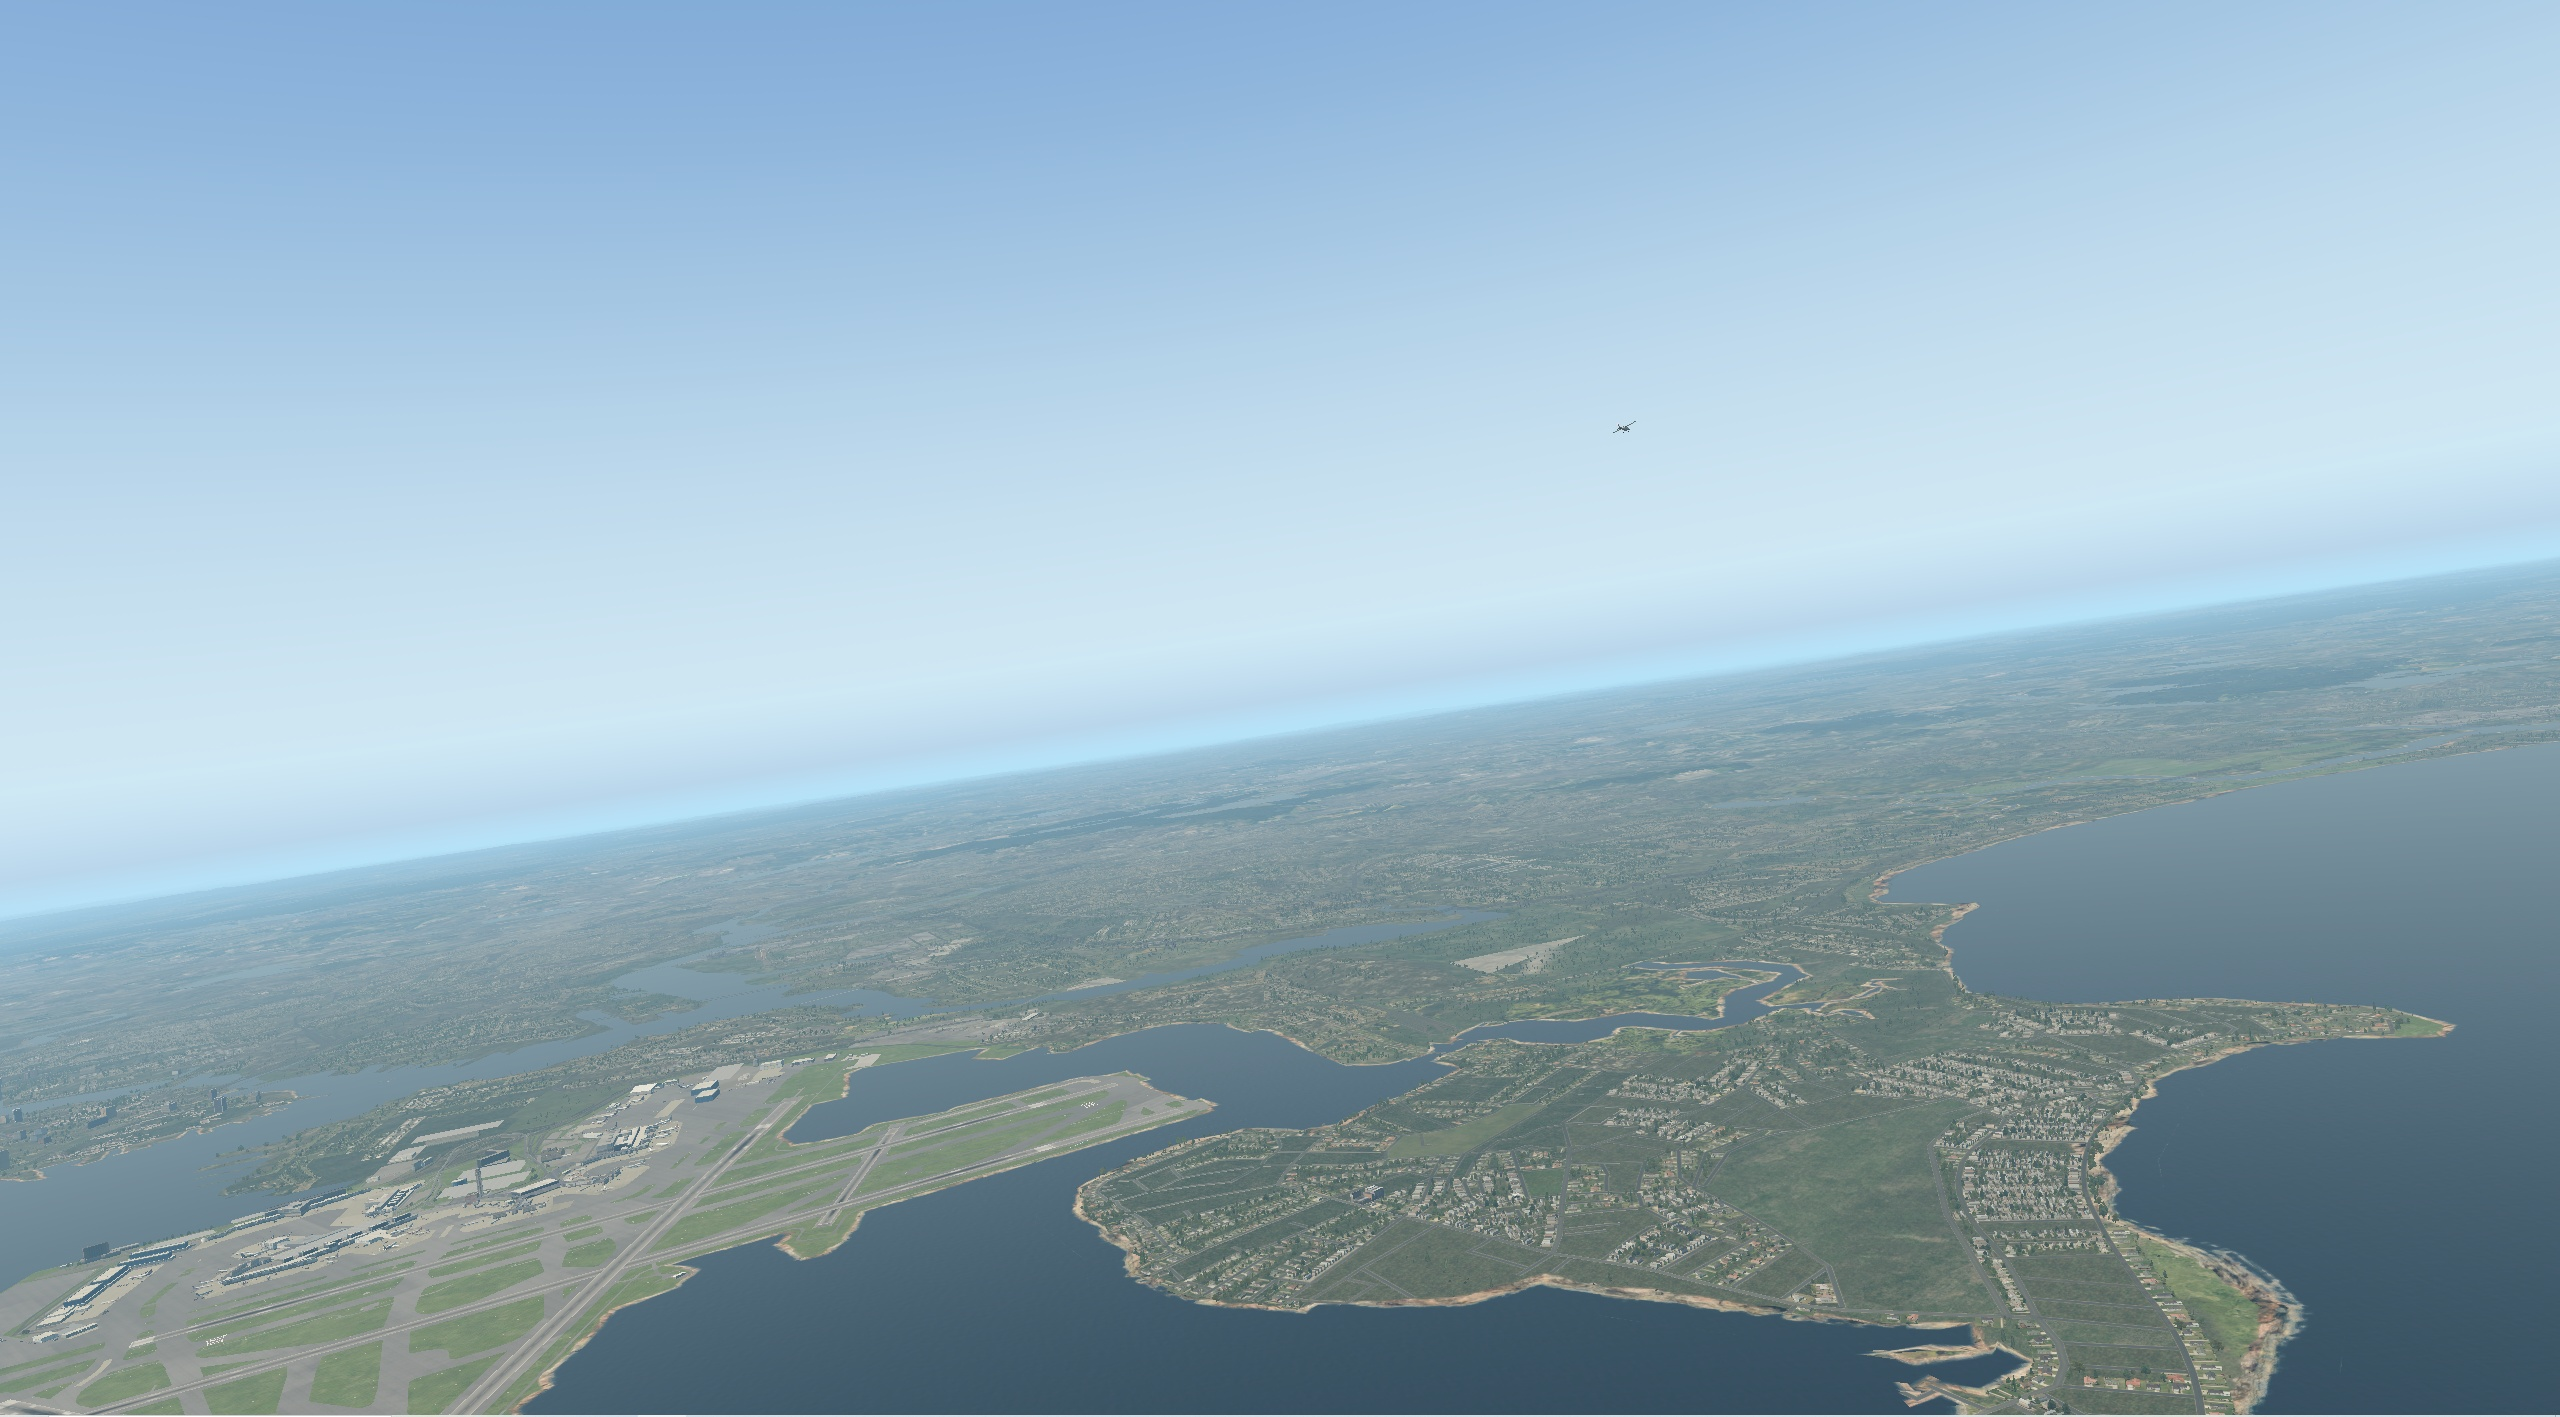aircraft: (1609, 422, 1642, 435)
